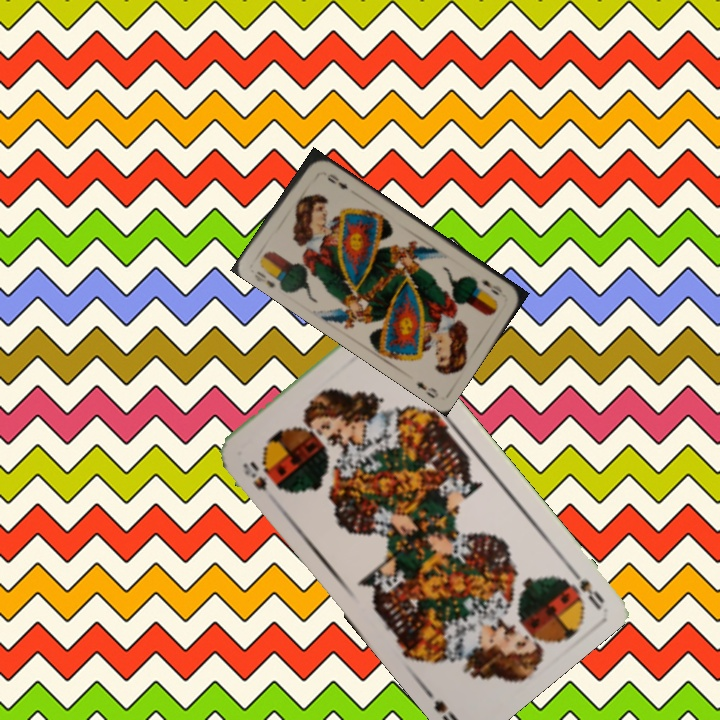EO: (250, 267, 278, 290), (478, 276, 505, 298)
SO: (562, 559, 607, 612), (238, 457, 283, 494)
